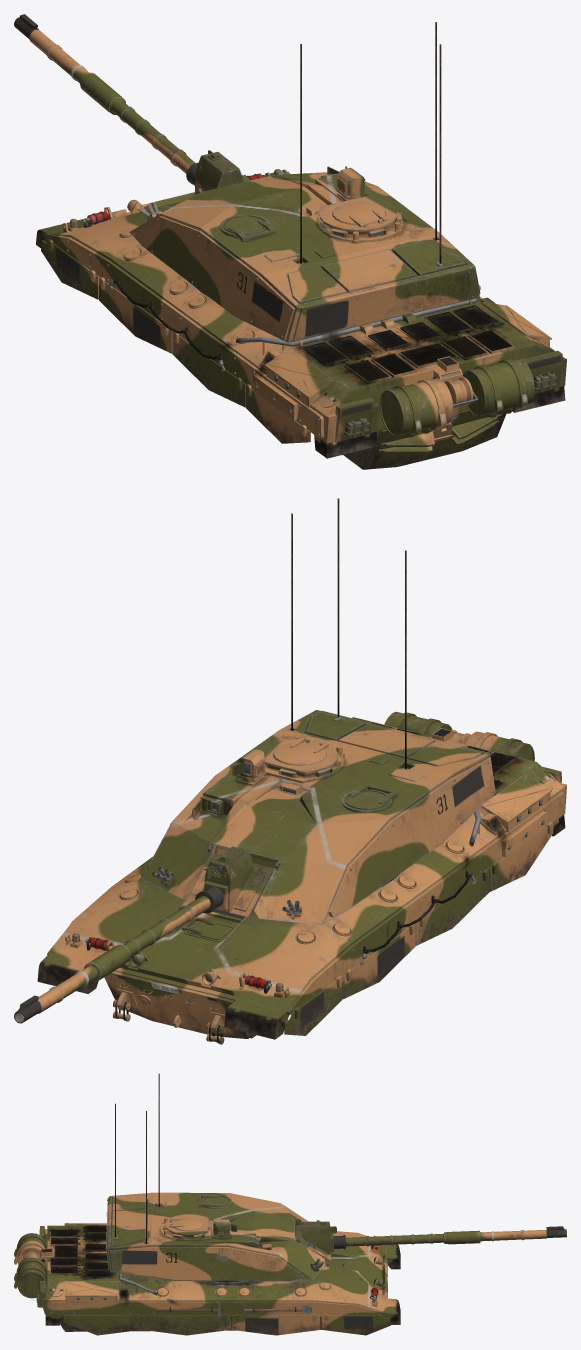
File: ally.glb
The picture shows the model from 3 angles, top to bottom: view 1: azimuth 30°, elevation 25°; view 2: azimuth 150°, elevation 25°; view 3: azimuth 270°, elevation 25°; orthographic projection. The views are drawn at different scales.
Visible parts, largest first — view 1: hull, turret, gun; view 2: hull, turret, gun; view 3: hull, turret, gun.
Boxes of the visible parts, left/top/right/bottom form: hull: left=36, top=169, right=566, bottom=469; turret: left=129, top=22, right=480, bottom=342; gun: left=14, top=14, right=249, bottom=201; hull: left=37, top=711, right=566, bottom=1044; turret: left=142, top=498, right=495, bottom=924; gun: left=14, top=846, right=274, bottom=1023; hull: left=14, top=1223, right=400, bottom=1335; turret: left=105, top=1073, right=325, bottom=1282; gun: left=296, top=1221, right=566, bottom=1260.
Bounding box in the file's own units: 3.55 × 4.99 × 11.03.
Materials: 3 (3 with a texture image).
